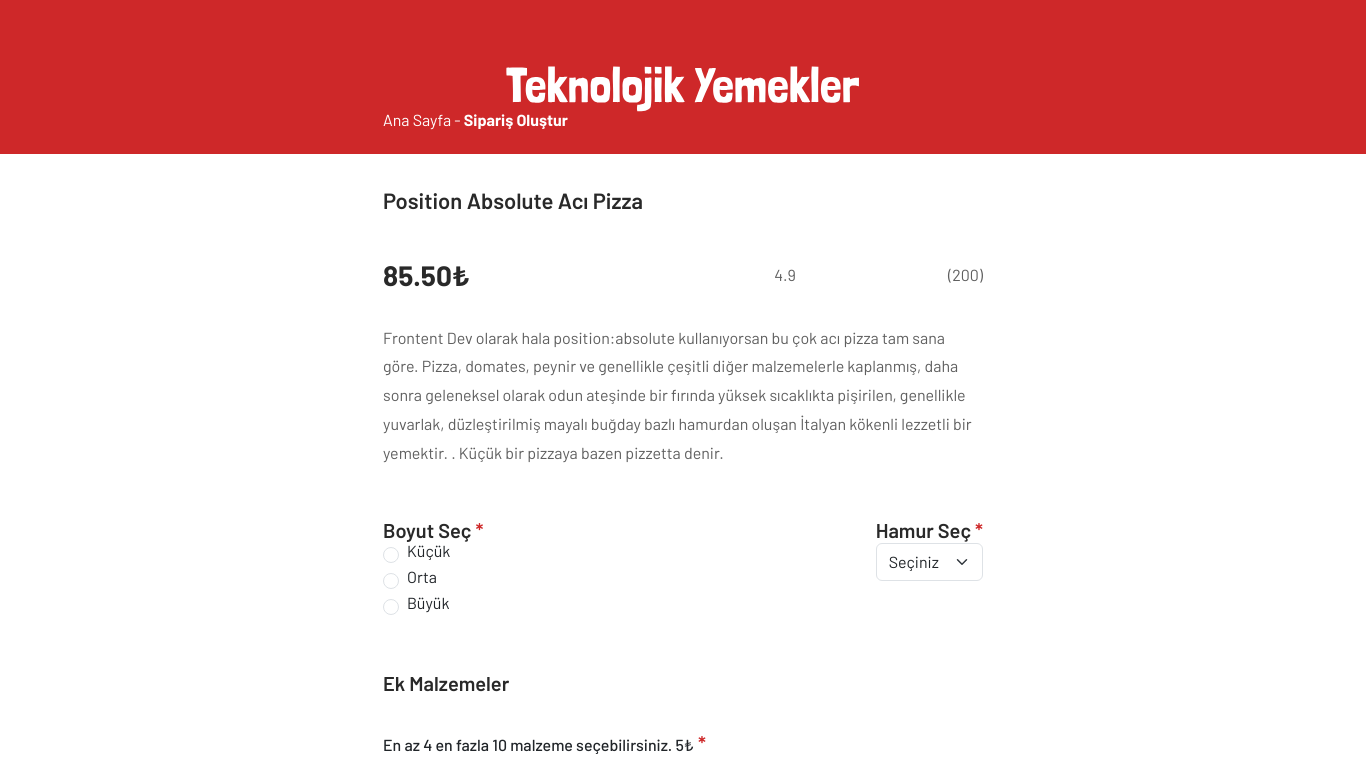
Test case: Sipariş Sayfası Testleri › Hamur seçiminden sonra uyarı kalkmalı ama submit devre dışı olmalı
Check the radio button with test id "size-radio" at {"x": 391, "y": 581}, box [383,573,399,589]
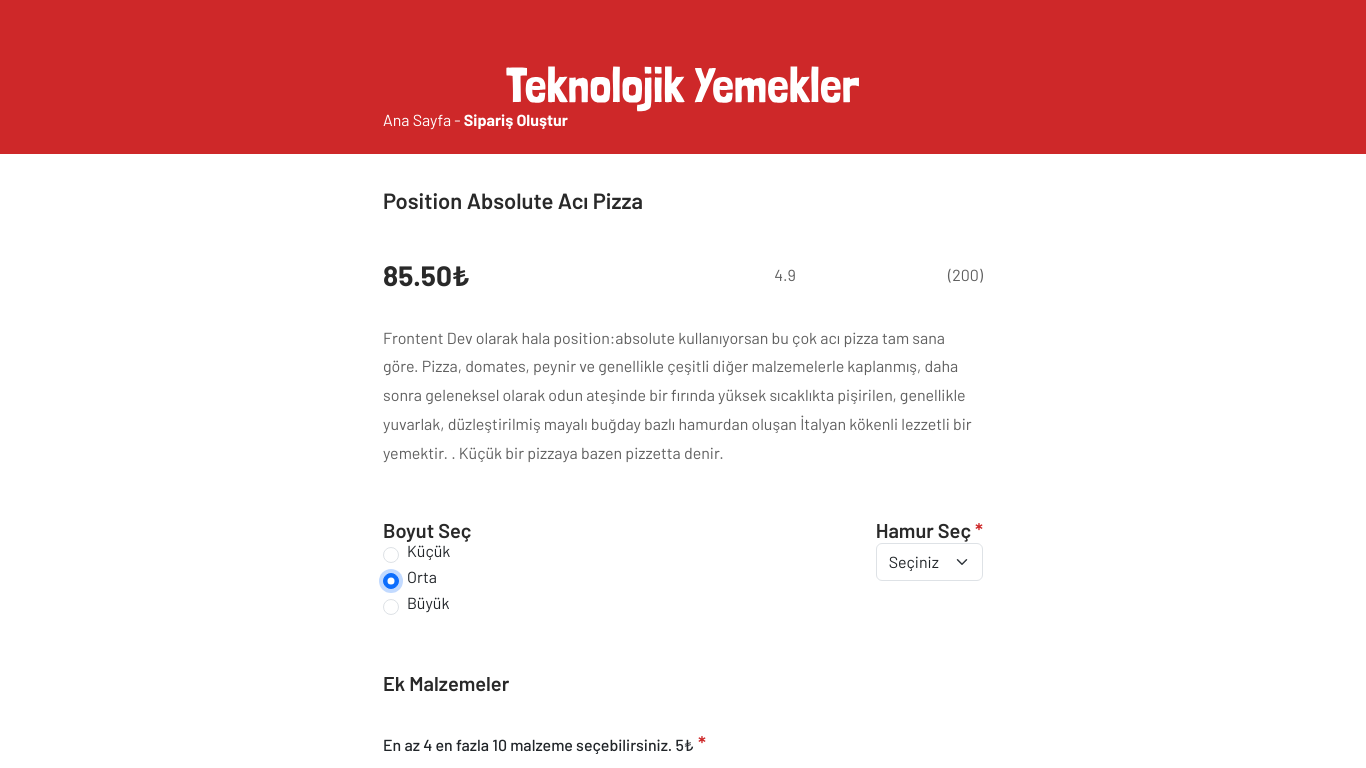
Select "Klasik" in the dropdown with test id "dough-select" at {"x": 930, "y": 562}, box [876,543,983,581]
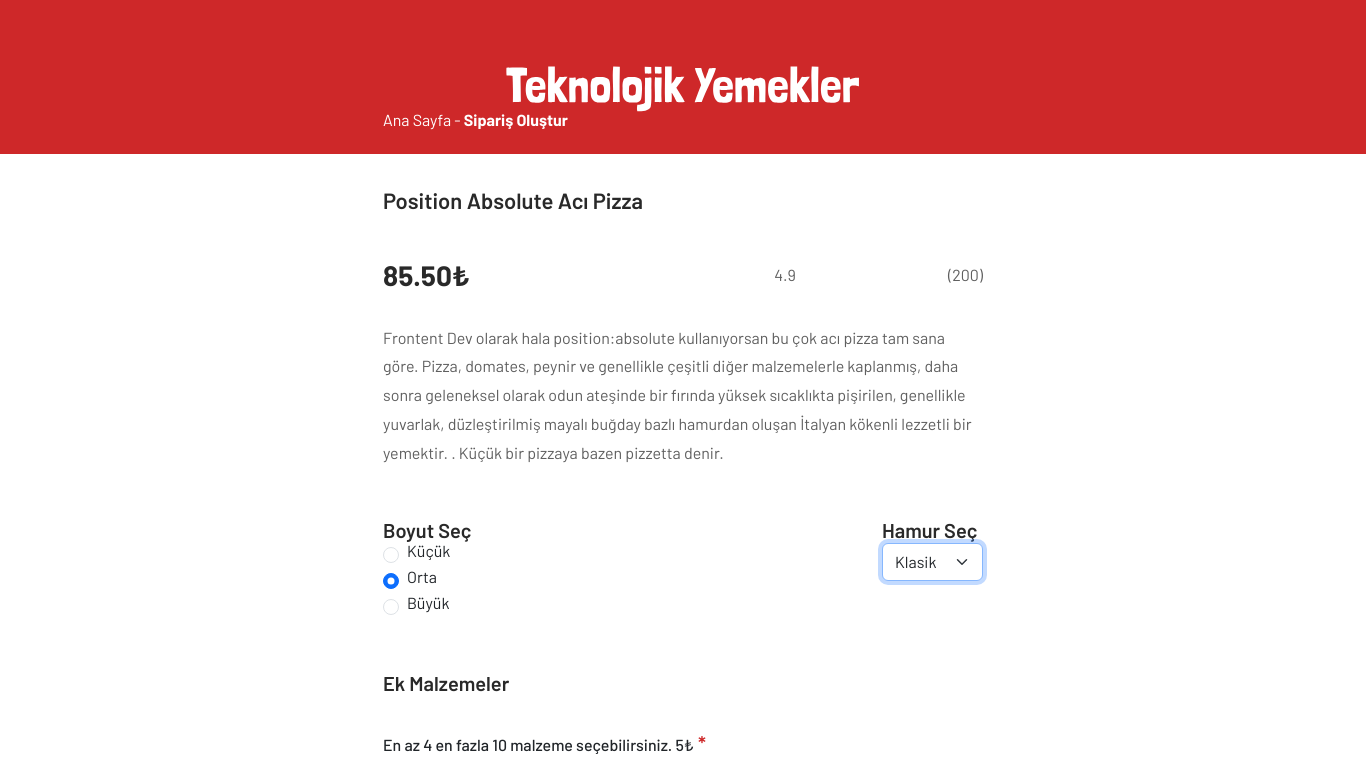
Result: the text with test id "dough-warn" is gone
